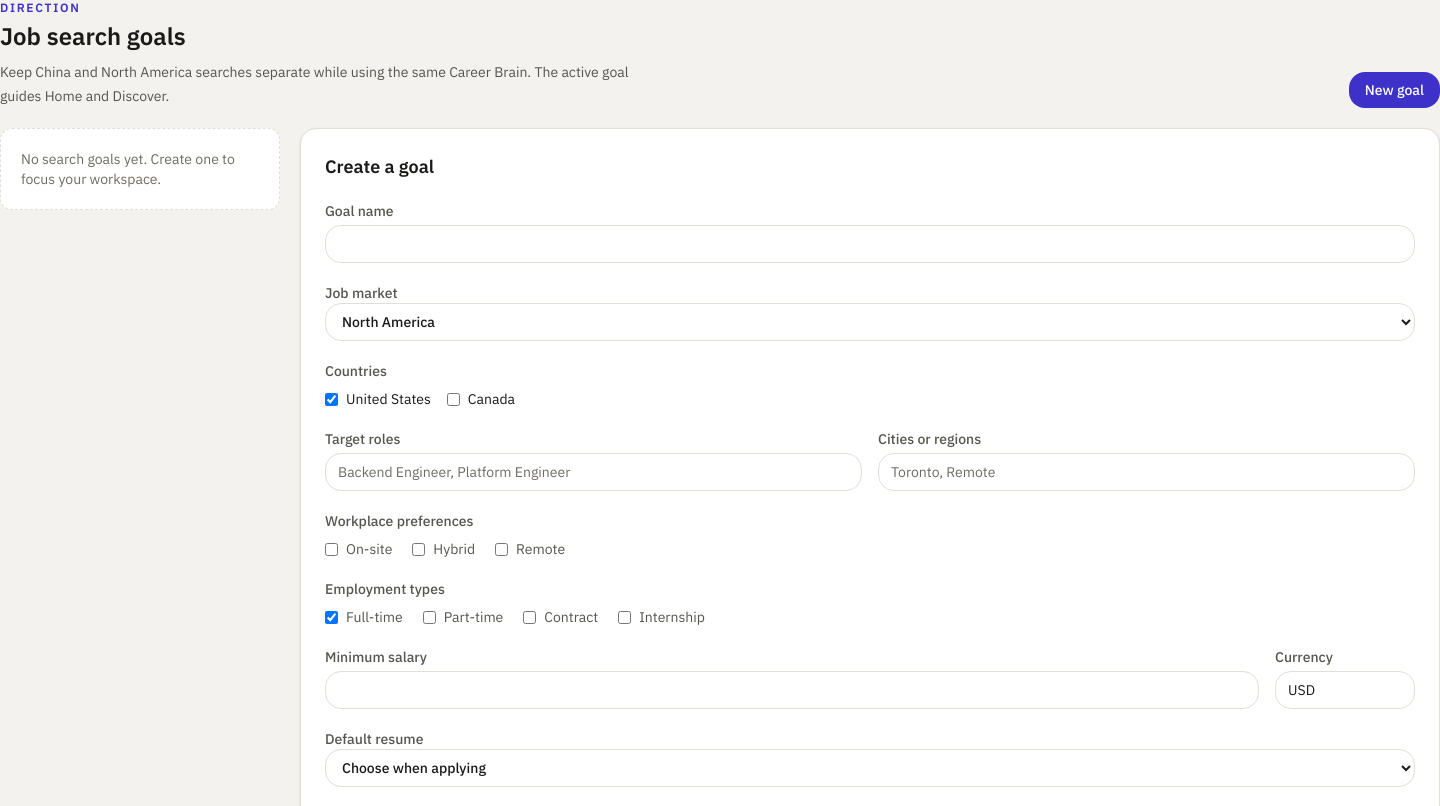
Scenario: JobSearchGoalsManager › creates a China goal with market-specific country and currency
The image size is (1440, 806).
Type "上海产品岗位" into the field labelled "Goal name" at (870, 244), box [325, 225, 1415, 263]
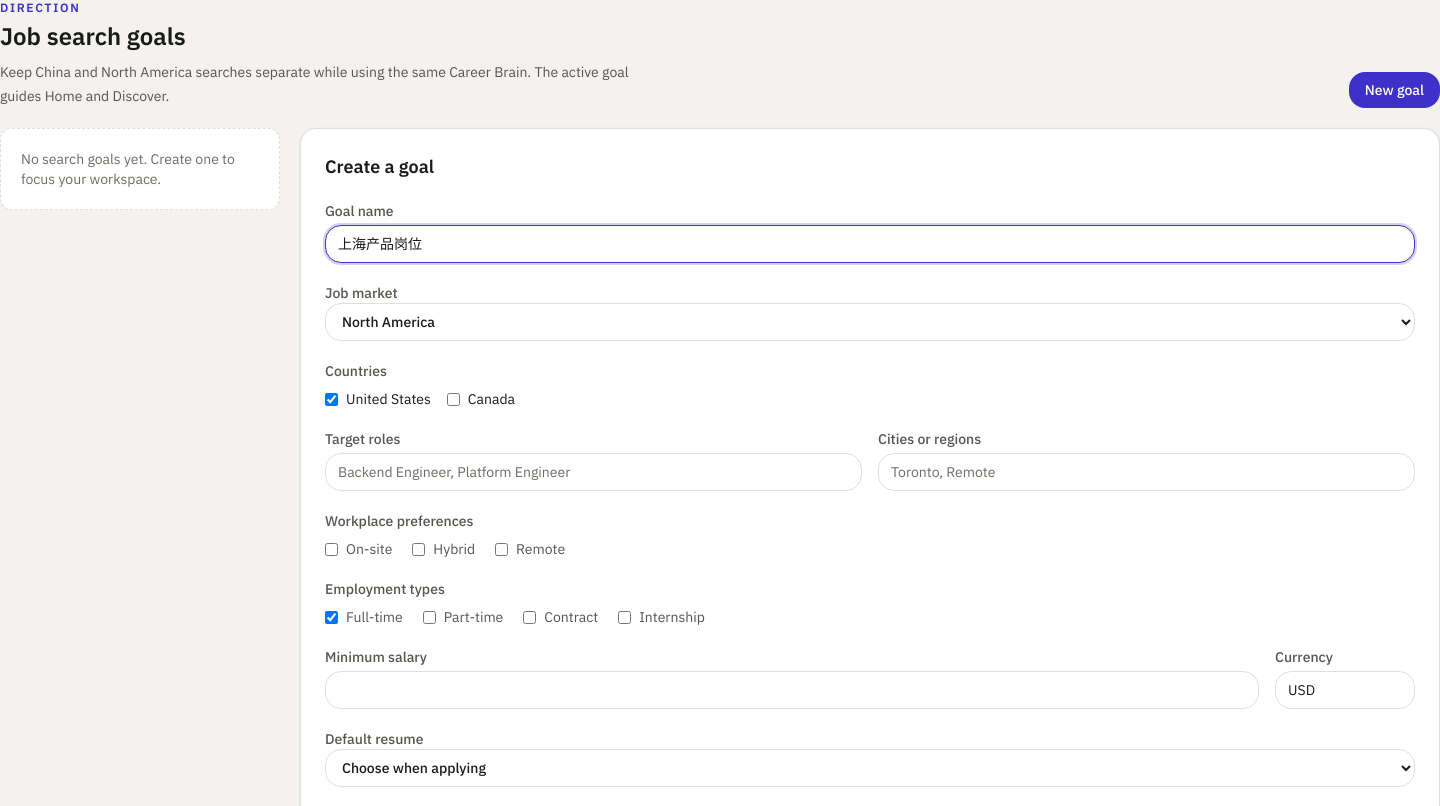
Select "China" in the dropdown labelled "Job market" at (870, 322), box [325, 303, 1415, 341]
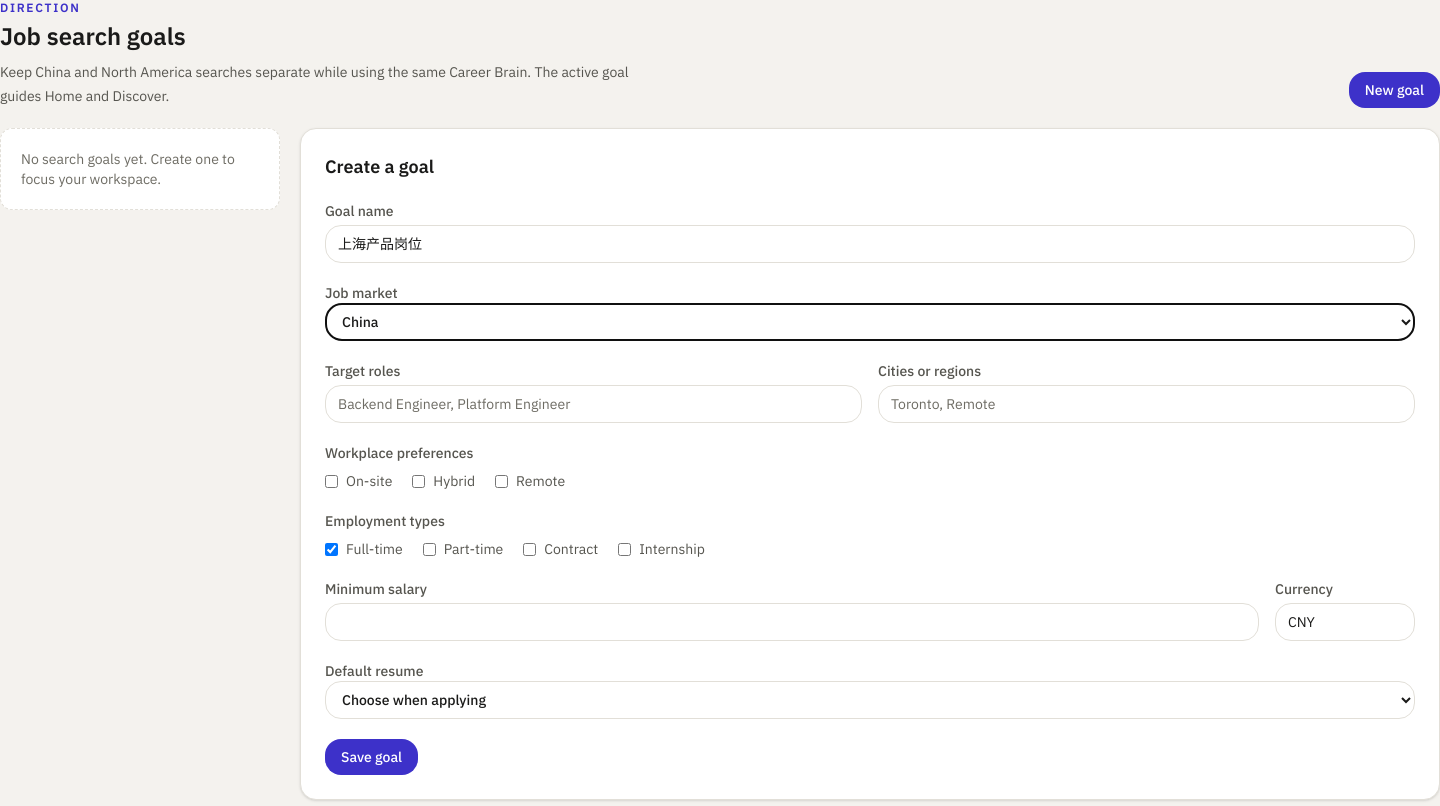
Type "产品经理" into the field labelled "Target roles" at (594, 404), box [325, 385, 862, 423]
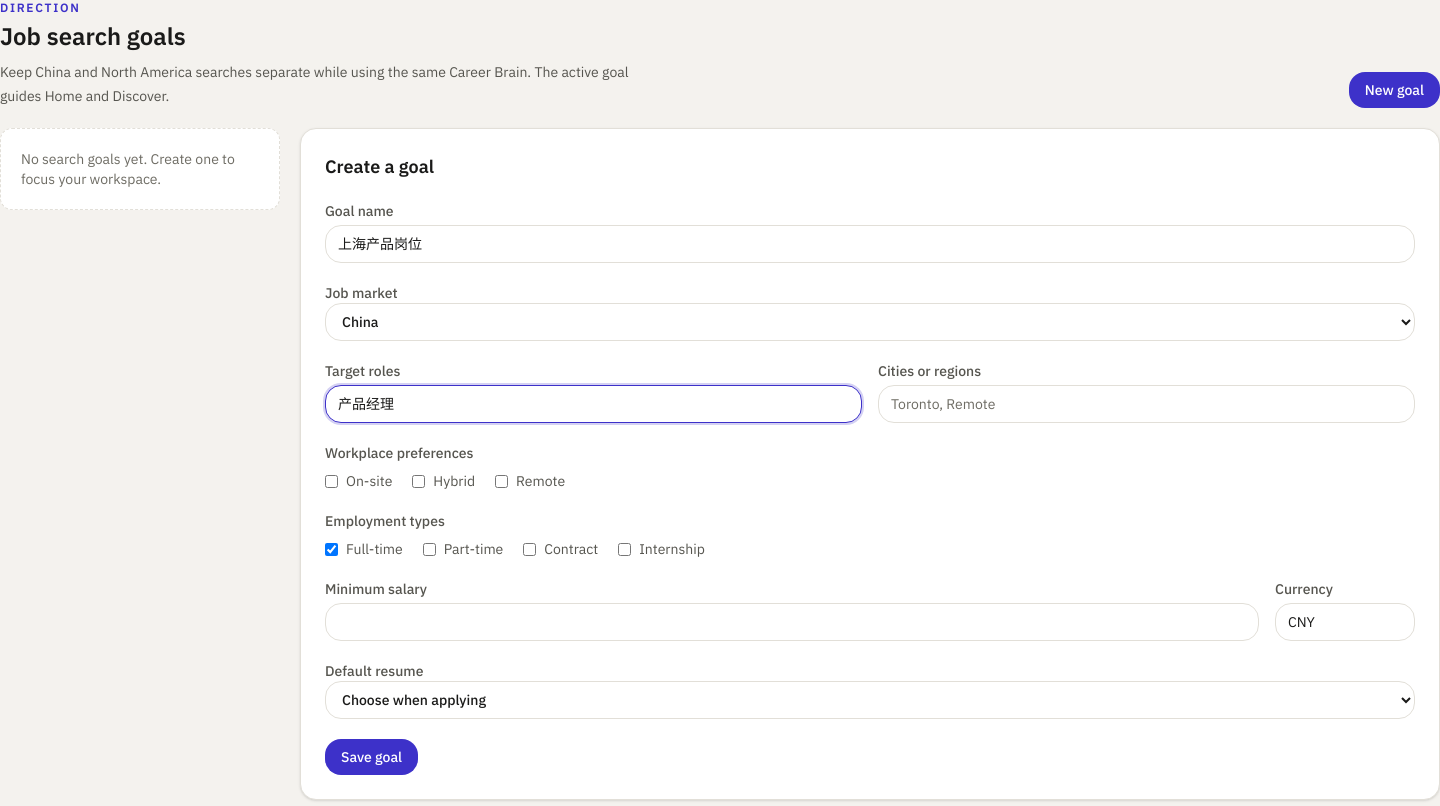
Type "上海" into the field labelled "Cities or regions" at (1146, 404), box [878, 385, 1415, 423]
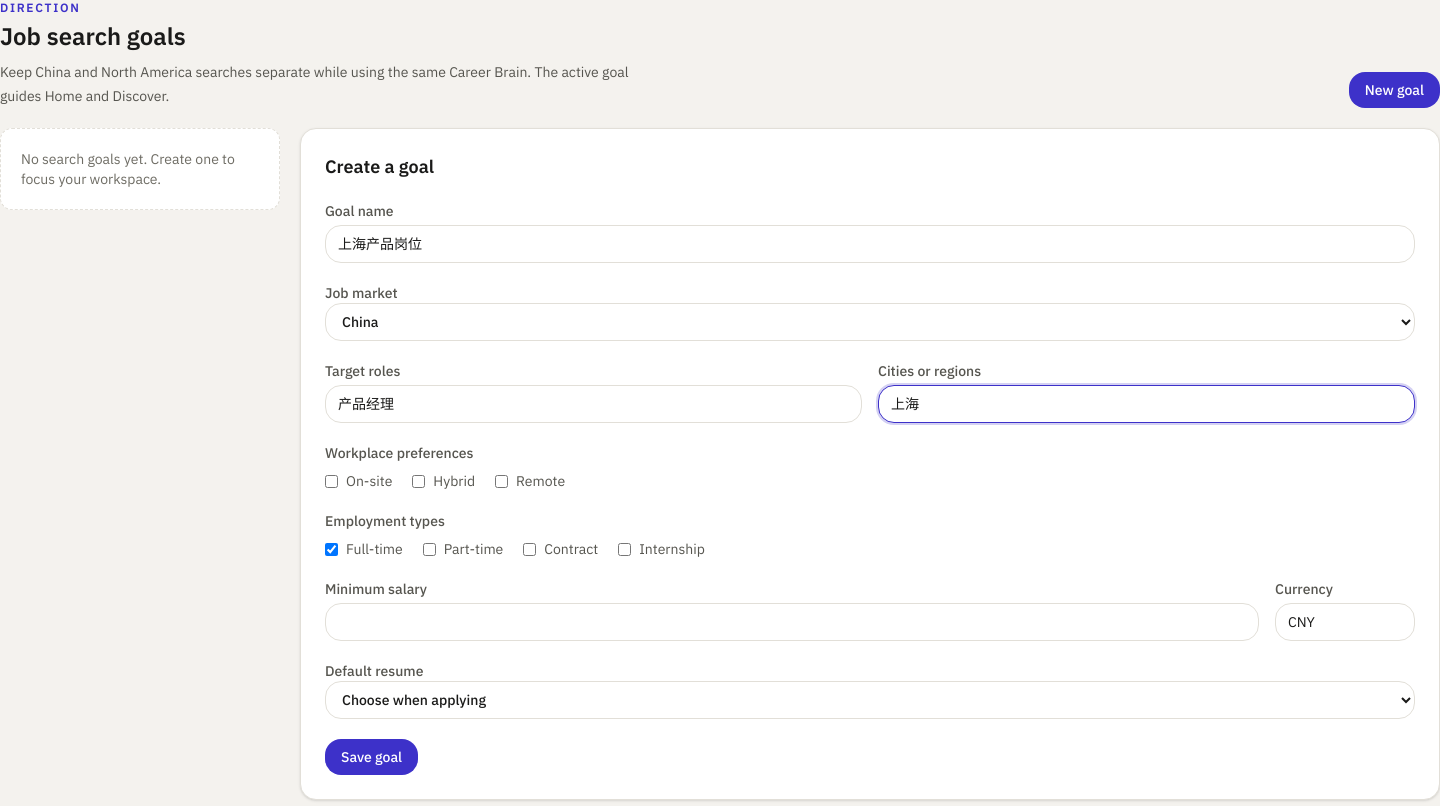
Type "35000" into the number field labelled "Minimum salary" at (792, 622), box [325, 603, 1259, 641]
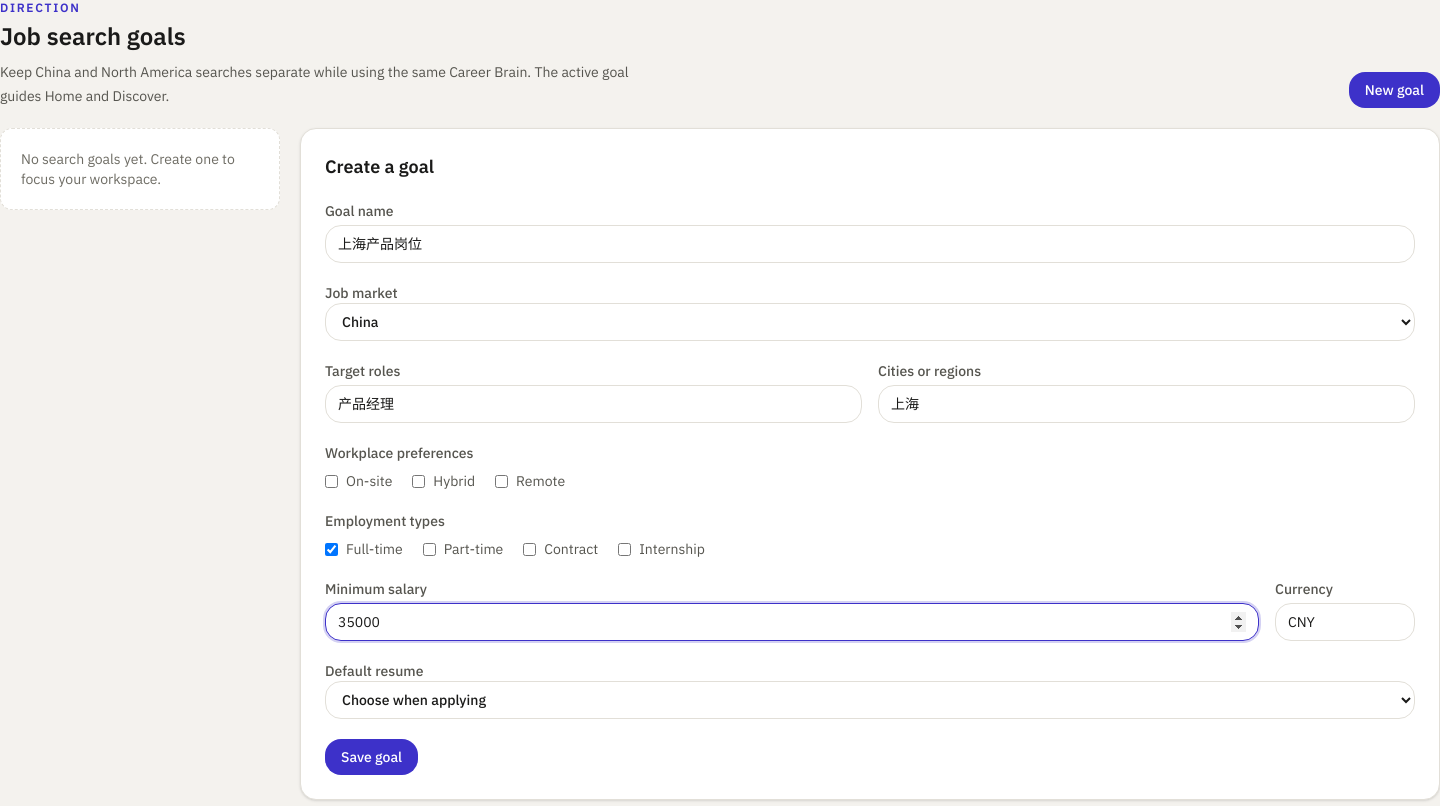
Click the button "Save goal" at (372, 757), box [325, 739, 418, 775]
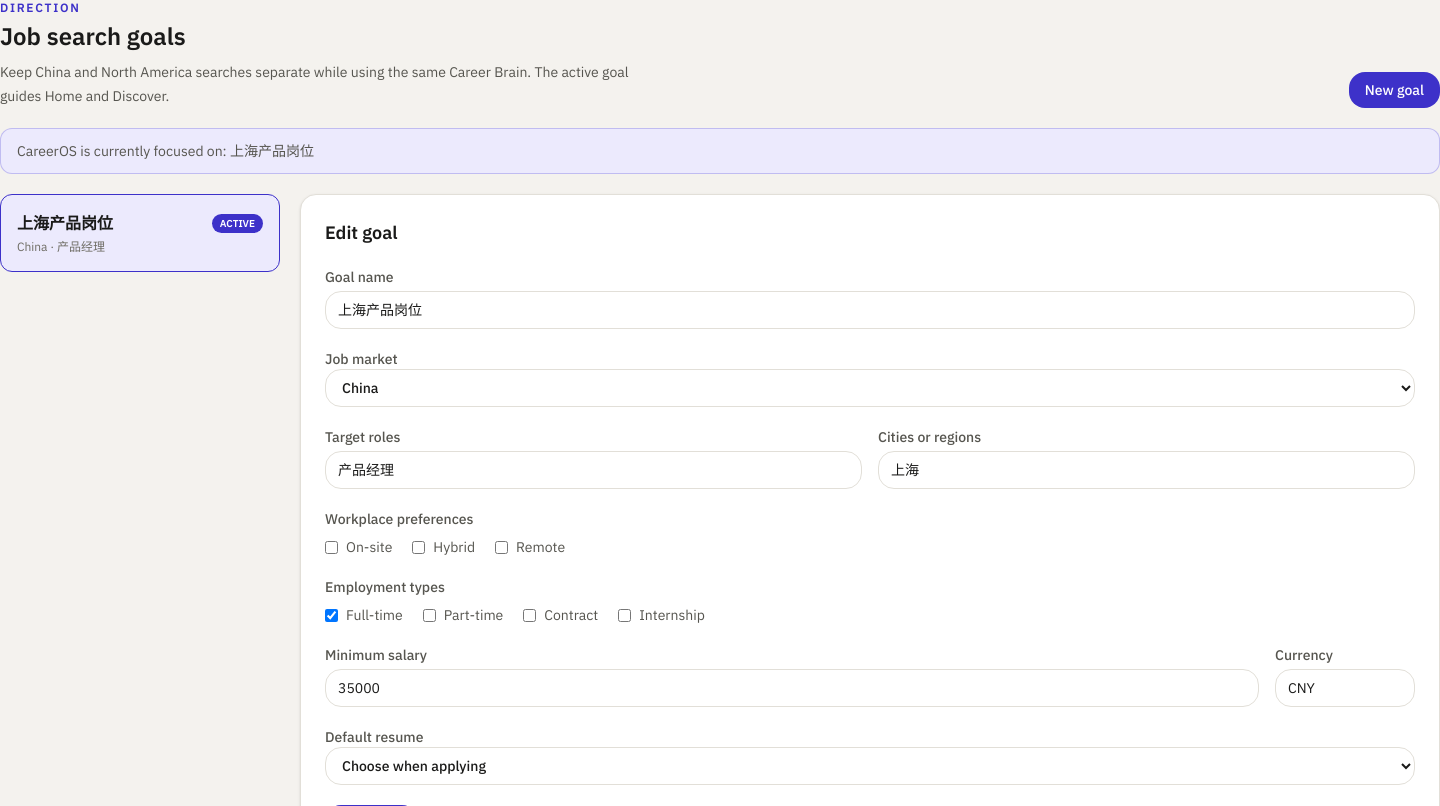
Result: the text "上海产品岗位" is shown at [17, 211, 113, 235]
